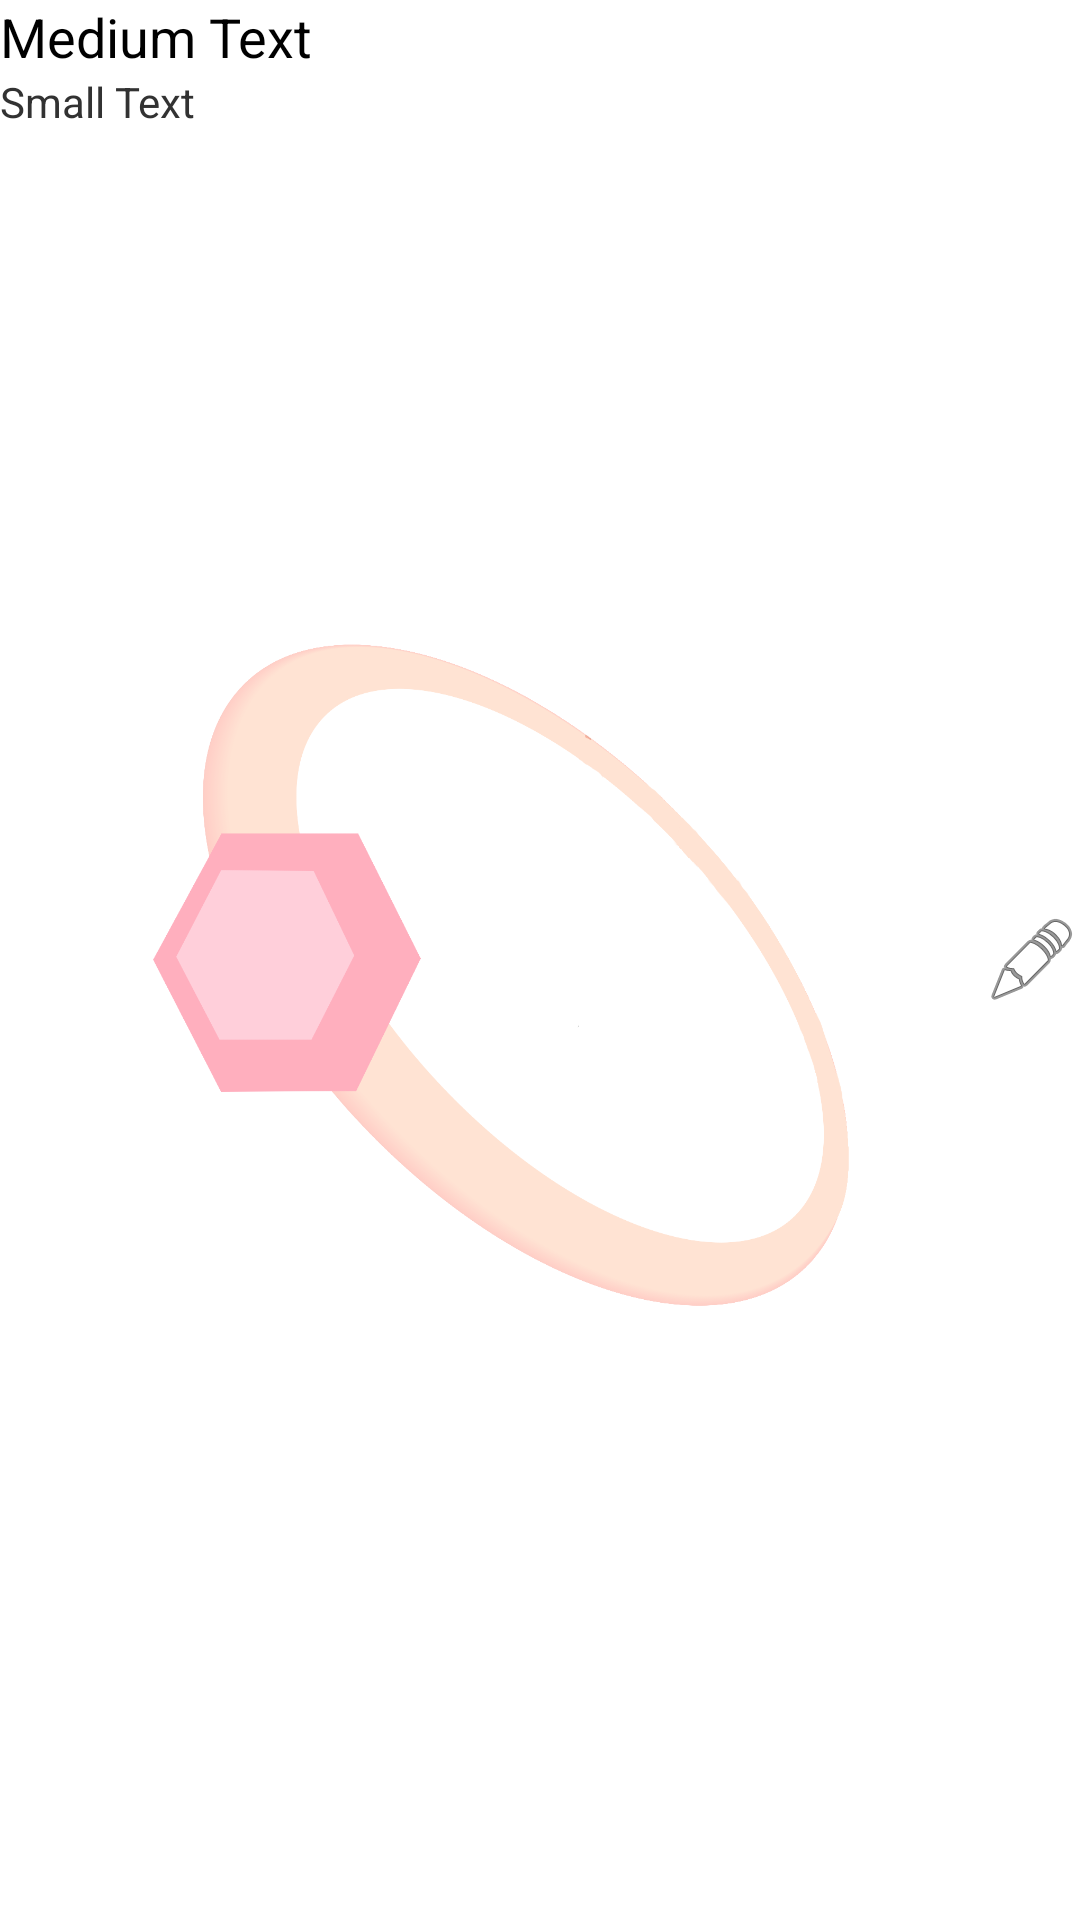

Icons on this 1080*1920 Android screen, each with its box as (x1=x1, y1=y1, x2=x2, y2=y2):
edit: (x1=991, y1=919, x2=1072, y2=1000)
